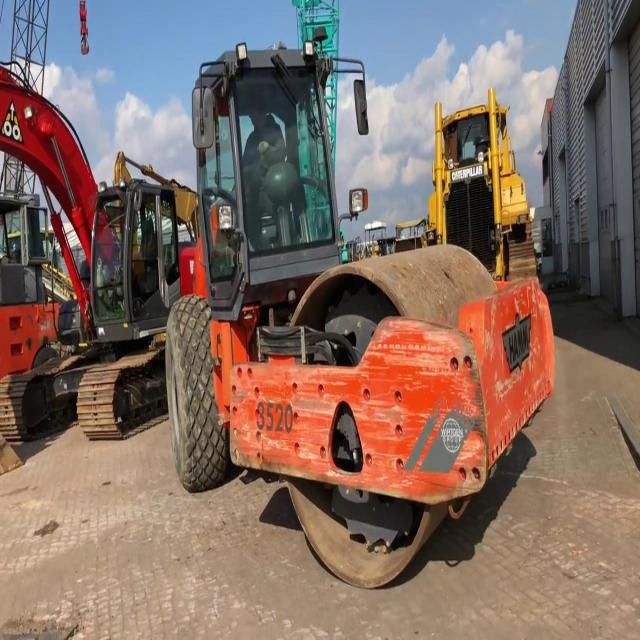excavator: (0, 74, 168, 443)
